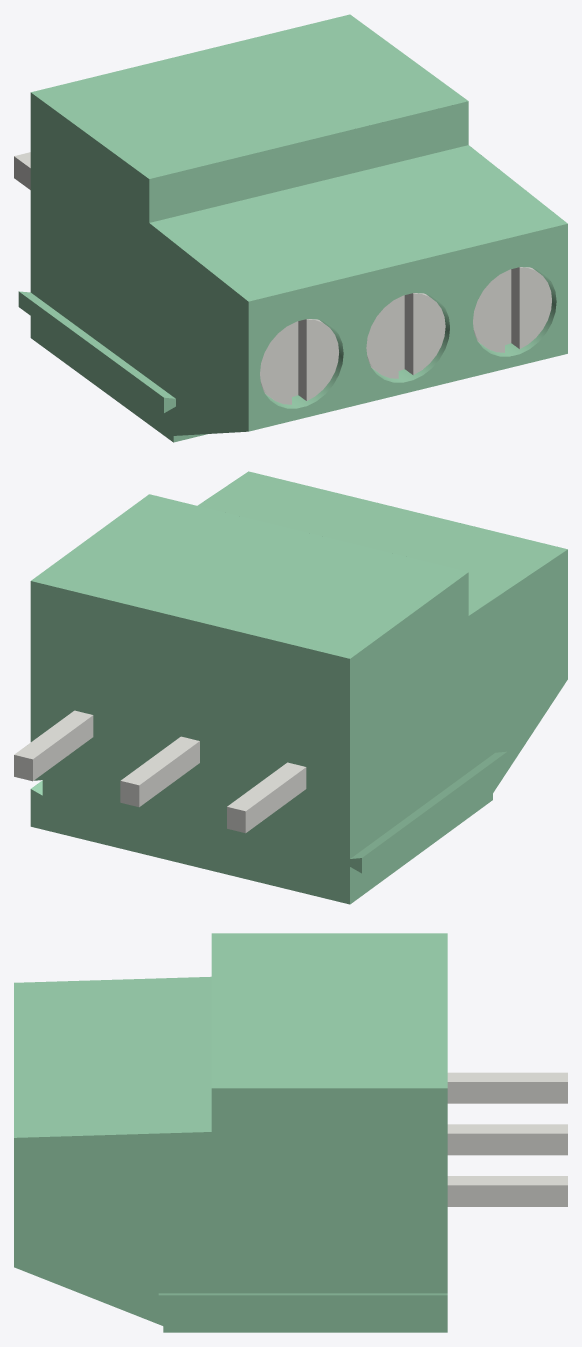
Rendered from TerminalBlock_Phoenix_MKDS-3-3-5.08_1x03_P5.08mm_Horizontal.glb.
3 renders of one model, top to bottom at view 1: azimuth 30°, elevation 25°; view 2: azimuth 150°, elevation 25°; view 3: azimuth 270°, elevation 25°, orthographic.
Parts seen in each view (by area): view 1: Shape_IndexedFaceSet, Shape_IndexedFaceSet.005, Shape_IndexedFaceSet.003, Shape_IndexedFaceSet.002, Shape_IndexedFaceSet.004, Shape_IndexedFaceSet.016, Shape_IndexedFaceSet.131, Shape_IndexedFaceSet.136, Shape_IndexedFaceSet.126, Shape_IndexedFaceSet.130, Shape_IndexedFaceSet.140, Shape_IndexedFaceSet.135 (+7 smaller); view 2: Shape_IndexedFaceSet.006, Shape_IndexedFaceSet, Shape_IndexedFaceSet.005, Shape_IndexedFaceSet.003, Shape_IndexedFaceSet.016, Shape_IndexedFaceSet.029, Shape_IndexedFaceSet.021, Shape_IndexedFaceSet.025, Shape_IndexedFaceSet.007, Shape_IndexedFaceSet.022, Shape_IndexedFaceSet.026, Shape_IndexedFaceSet.030; view 3: Shape_IndexedFaceSet.012, Shape_IndexedFaceSet.005, Shape_IndexedFaceSet.003, Shape_IndexedFaceSet.023, Shape_IndexedFaceSet.027, Shape_IndexedFaceSet.031, Shape_IndexedFaceSet.018, Shape_IndexedFaceSet.022, Shape_IndexedFaceSet.026, Shape_IndexedFaceSet.030, Shape_IndexedFaceSet.017.
Part boxes in pixels (box(x1,y1,x2,y2)): Shape_IndexedFaceSet: box(30, 92, 248, 442); Shape_IndexedFaceSet.005: box(31, 14, 468, 178); Shape_IndexedFaceSet.003: box(150, 145, 567, 301); Shape_IndexedFaceSet.002: box(248, 224, 567, 431); Shape_IndexedFaceSet.004: box(149, 101, 468, 222); Shape_IndexedFaceSet.016: box(18, 291, 163, 412); Shape_IndexedFaceSet.131: box(306, 319, 338, 400); Shape_IndexedFaceSet.136: box(519, 267, 551, 348); Shape_IndexedFaceSet.126: box(413, 293, 445, 374); Shape_IndexedFaceSet.130: box(366, 298, 398, 378); Shape_IndexedFaceSet.140: box(473, 272, 504, 352); Shape_IndexedFaceSet.135: box(260, 324, 291, 404); Shape_IndexedFaceSet.006: box(30, 581, 361, 904); Shape_IndexedFaceSet: box(350, 549, 567, 904); Shape_IndexedFaceSet.005: box(31, 494, 468, 658); Shape_IndexedFaceSet.003: box(197, 471, 567, 615); Shape_IndexedFaceSet.016: box(362, 752, 507, 873); Shape_IndexedFaceSet.029: box(245, 767, 306, 832); Shape_IndexedFaceSet.021: box(139, 741, 199, 806); Shape_IndexedFaceSet.025: box(33, 715, 93, 780); Shape_IndexedFaceSet.007: box(350, 751, 506, 858); Shape_IndexedFaceSet.022: box(121, 736, 199, 785); Shape_IndexedFaceSet.026: box(14, 710, 92, 759); Shape_IndexedFaceSet.030: box(227, 762, 305, 811); Shape_IndexedFaceSet.012: box(14, 1088, 447, 1332); Shape_IndexedFaceSet.005: box(211, 933, 447, 1088); Shape_IndexedFaceSet.003: box(14, 976, 211, 1137); Shape_IndexedFaceSet.023: box(447, 1133, 567, 1155); Shape_IndexedFaceSet.027: box(447, 1185, 567, 1206); Shape_IndexedFaceSet.031: box(447, 1082, 567, 1103); Shape_IndexedFaceSet.018: box(158, 1287, 447, 1293); Shape_IndexedFaceSet.022: box(447, 1124, 567, 1133); Shape_IndexedFaceSet.026: box(447, 1176, 567, 1185); Shape_IndexedFaceSet.030: box(447, 1072, 567, 1081); Shape_IndexedFaceSet.017: box(158, 1293, 447, 1295).
Size of the model in its own units: 6.22 by 4.41 by 9.06.
